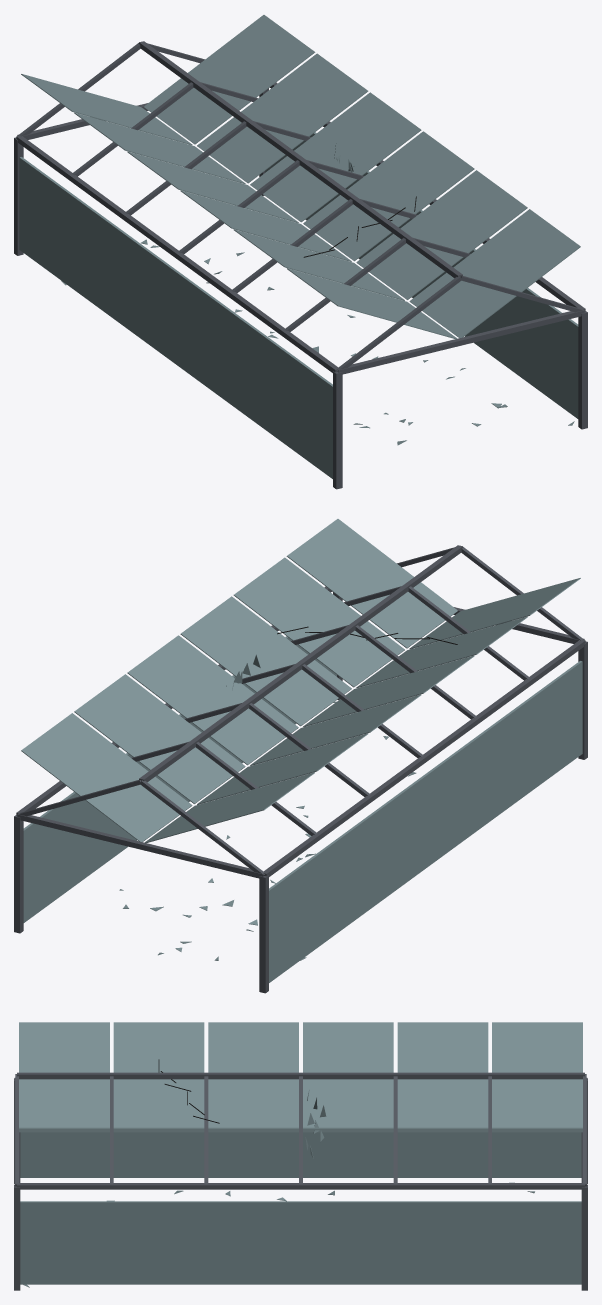
The model's file is greenhouse_park.glb.
The picture shows the model from 3 angles, top to bottom: view 1: azimuth 30°, elevation 25°; view 2: azimuth 150°, elevation 25°; view 3: azimuth 270°, elevation 25°; orthographic projection. The views are drawn at different scales.
Parts seen in each view (by area): view 1: frame_mesh, pane.030, pane.034, pane.033, pane.019, pane.031, pane.032, pane.027, pane.024, pane.028, pane.025, pane.029 (+1 smaller); view 2: frame_mesh, pane.034, pane.033, pane.030, pane.032, pane.019, pane.031, pane.027, pane.028, pane.026, pane.029, pane.025 (+1 smaller); view 3: frame_mesh, pane.028, pane.025, pane.024, pane.029, pane.026, pane.027, pane.033, pane.019, pane.030, pane.031, pane.034 (+1 smaller).
Part boxes in pixels (x1,y1,x2,y2): frame_mesh: [14, 41, 587, 489]; pane.030: [409, 209, 580, 337]; pane.034: [144, 15, 315, 144]; pane.033: [197, 53, 368, 183]; pane.019: [356, 170, 527, 299]; pane.031: [303, 131, 474, 261]; pane.032: [250, 92, 421, 222]; pane.027: [127, 151, 298, 222]; pane.024: [287, 268, 457, 339]; pane.028: [74, 112, 245, 183]; pane.025: [233, 229, 404, 300]; pane.029: [21, 74, 192, 145]; frame_mesh: [14, 545, 587, 993]; pane.034: [21, 713, 192, 841]; pane.033: [74, 674, 245, 803]; pane.030: [286, 519, 457, 648]; pane.032: [127, 635, 298, 765]; pane.019: [233, 557, 404, 687]; pane.031: [180, 596, 351, 726]; pane.027: [250, 694, 421, 765]; pane.028: [197, 733, 368, 804]; pane.026: [303, 655, 474, 726]; pane.029: [144, 772, 314, 843]; pane.025: [356, 616, 527, 687]; frame_mesh: [14, 1072, 587, 1290]; pane.028: [397, 1022, 488, 1127]; pane.025: [113, 1022, 204, 1127]; pane.024: [19, 1022, 109, 1127]; pane.029: [492, 1022, 582, 1127]; pane.026: [208, 1022, 298, 1127]; pane.027: [303, 1022, 393, 1127]; pane.033: [397, 1127, 488, 1132]; pane.019: [113, 1127, 204, 1132]; pane.030: [19, 1127, 109, 1132]; pane.031: [208, 1127, 298, 1132]; pane.034: [492, 1127, 582, 1132].
Size of what is drawn, in the model's own units: 4.1 by 2.91 by 9.1.
